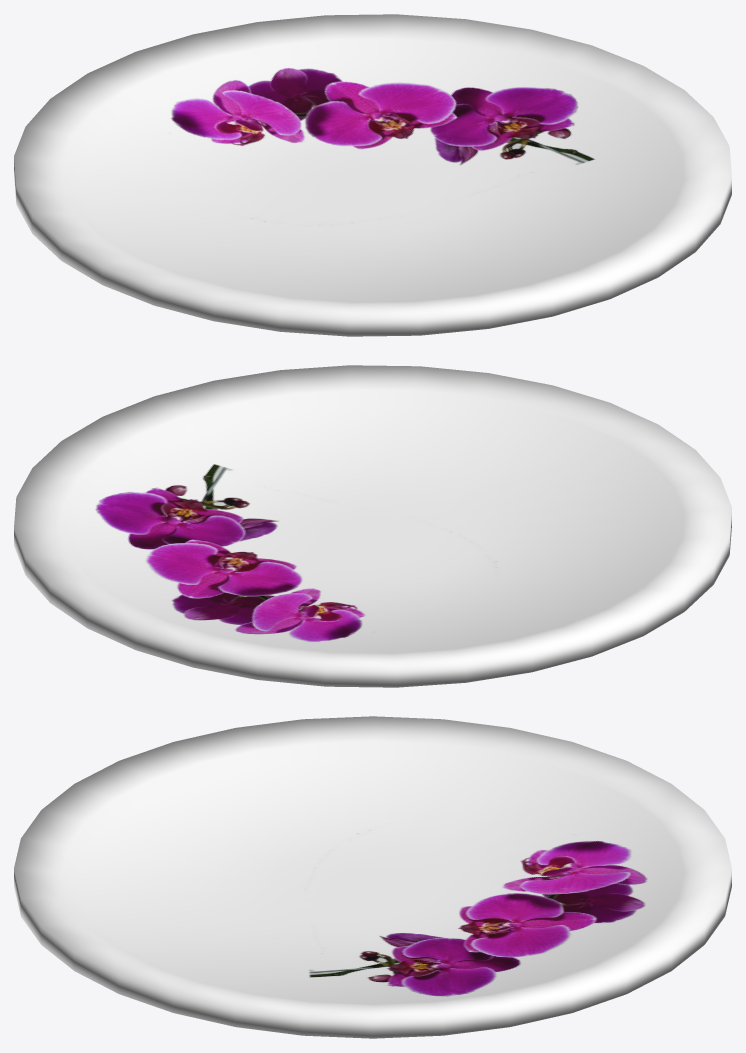
Rendered from set de 6 puestos plato postre.dae.
3 renders of one model, top to bottom at view 1: azimuth 30°, elevation 25°; view 2: azimuth 150°, elevation 25°; view 3: azimuth 270°, elevation 25°, orthographic.
Visible parts, largest first — view 1: plato_postre; view 2: plato_postre; view 3: plato_postre.
Boxes of the visible parts, x1,y1,x2,y2 form: plato_postre: (14, 14, 731, 336); plato_postre: (14, 365, 731, 687); plato_postre: (14, 716, 731, 1038).
Size of the model in its own units: 18.33 by 18.33 by 1.86.
1 material, 1 textured.
